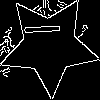I: (24, 20, 69, 37)
